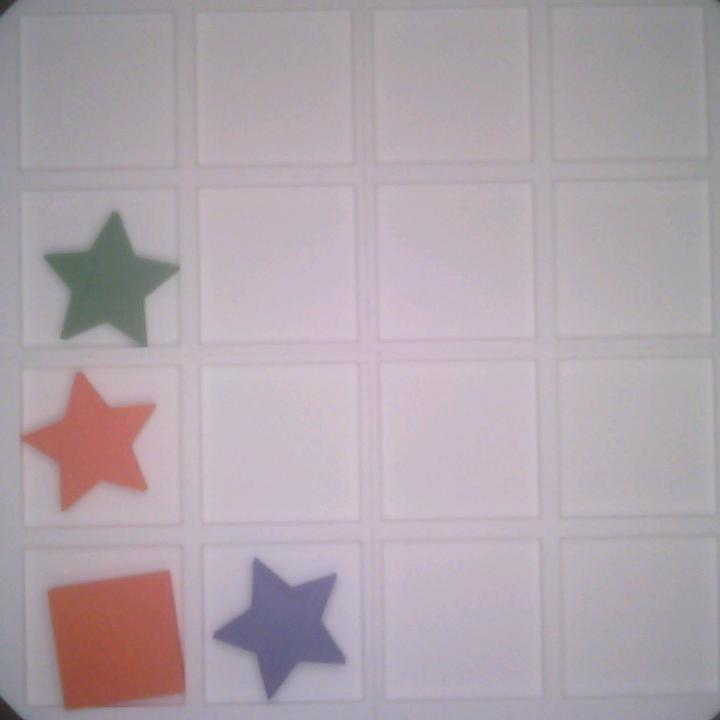Blue star: (211, 553, 351, 703)
Green star: (43, 208, 181, 348)
Orange square: (40, 566, 192, 718)
Orange star: (19, 369, 159, 517)
